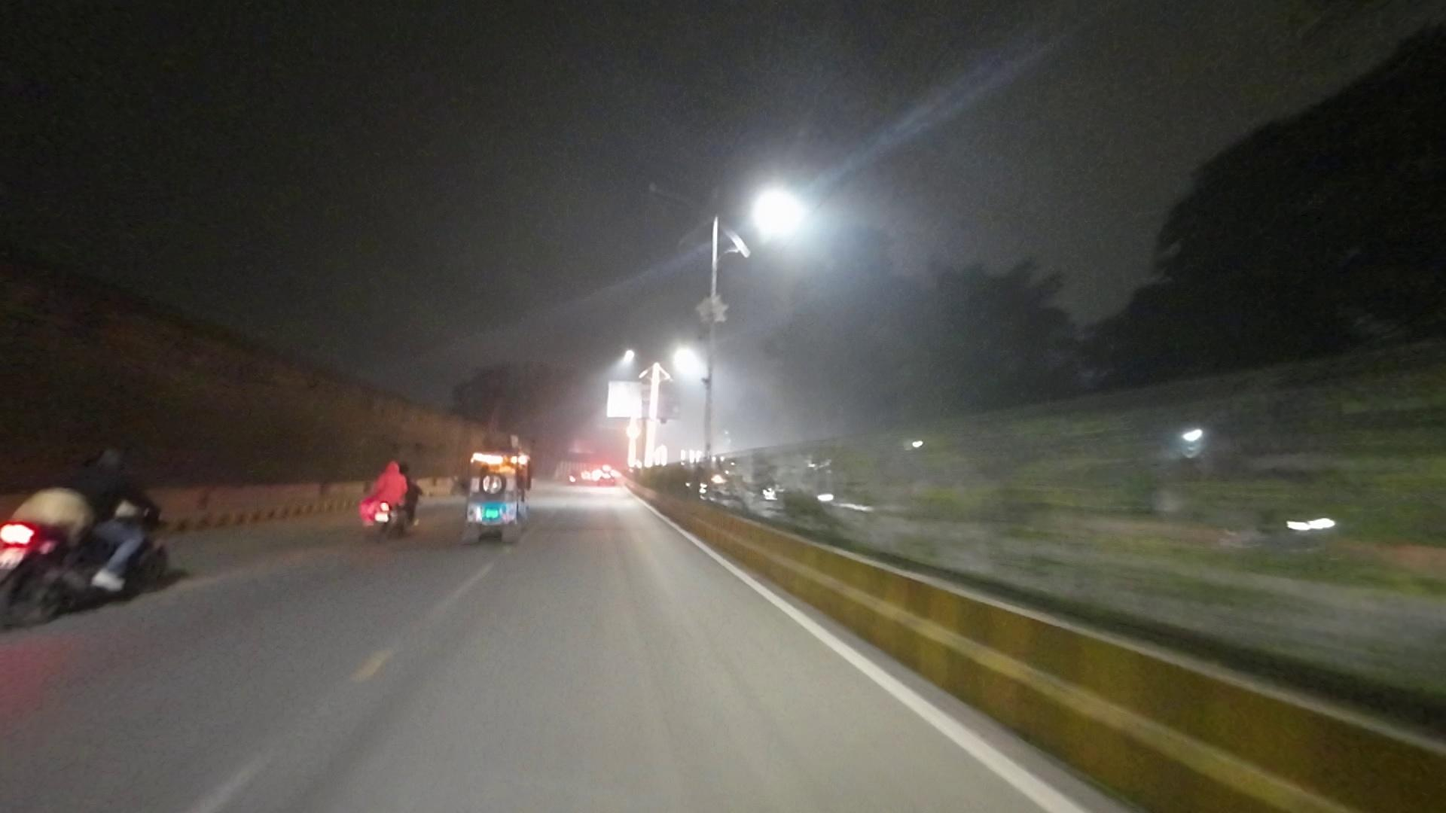streetlight: (644, 178, 705, 201)
